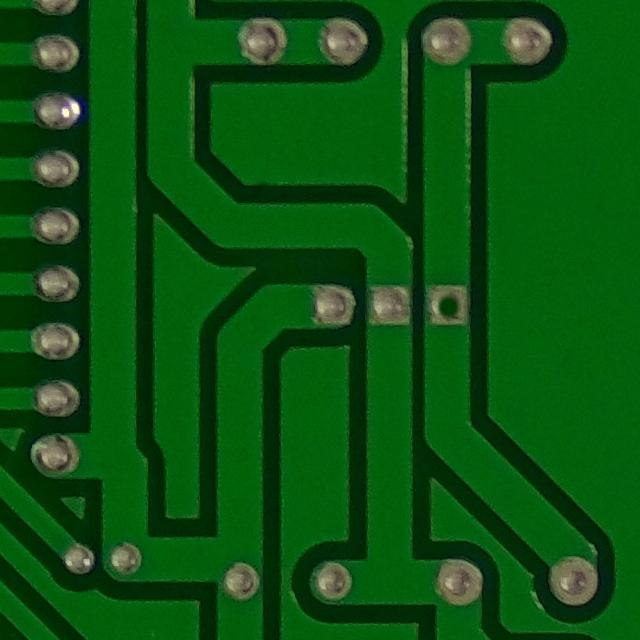missing_hole: (430, 280, 469, 334)
